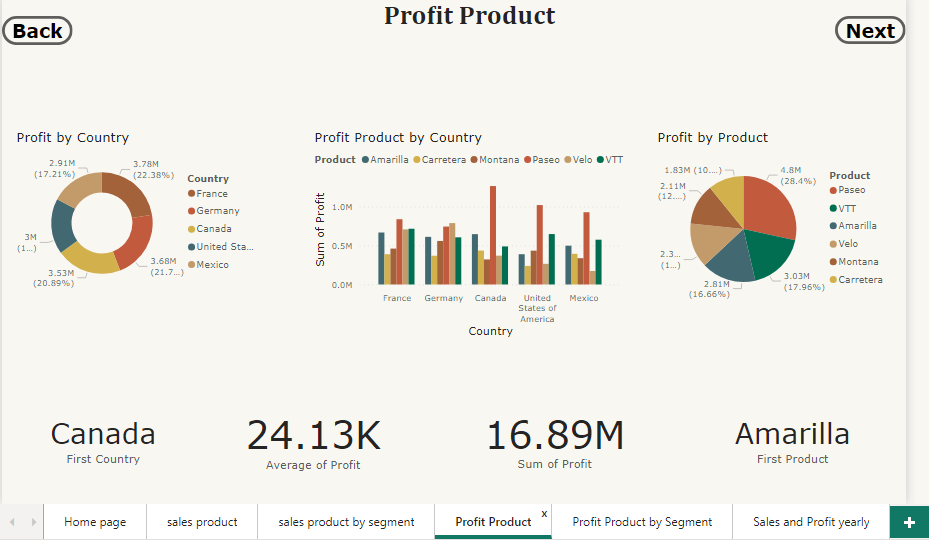

What the dashboard file says about the page in this screenshot:
{"tool":"powerbi","page":{"name":"Page 4","canvas":[1280,720],"ordinal":3},"visuals":[{"type":"textbox","box":[487.1,0,349.9,82.3],"z":0},{"type":"clusteredColumnChart","title":" Profit Product by Country ","fields":{"Y":["Sum(financials.Profit)"],"Category":["financials.Country"],"Series":["financials.Product"]},"box":[426.8,297.8,444.6,300.5],"z":1000},{"type":"card","fields":{"Values":["Sum(financials.Profit)"]},"box":[520.1,113.9,286.8,183.9],"z":2000},{"type":"card","fields":{"Values":["Min(financials.Country)"]},"box":[171.5,113.9,286.8,183.9],"z":3000},{"type":"card","fields":{"Values":["Min(financials.Product)"]},"box":[902.9,113.9,286.8,183.9],"z":4000},{"type":"pieChart","title":" Profit by Product","fields":{"Y":["Sum(financials.Profit)"],"Category":["financials.Product"]},"box":[923.5,306,338.9,260.7],"z":5000},{"type":"donutChart","title":" Profit by Country","fields":{"Y":["Sum(financials.Profit)"],"Category":["financials.Country"]},"box":[0,306,356.8,242.9],"z":6000},{"type":"actionButton","box":[1180.1,28.8,100.2,39.8],"z":7000},{"type":"actionButton","box":[0,28.8,100.2,41.2],"z":8000}]}

Visuals, with their boxes on the page's 1280x720 design canvas (x1, y1, x2, y2). These are canvas units, not pixel positions in the 929x540 screenshot, which may show the page scaled, cropped or inside an application window:
textbox: detection(487, 0, 837, 82)
" Profit Product by Country " clusteredColumnChart: detection(427, 298, 871, 598)
card - Sum(financials.Profit): detection(520, 114, 807, 298)
card - Min(financials.Country): detection(172, 114, 458, 298)
card - Min(financials.Product): detection(903, 114, 1190, 298)
" Profit by Product" pieChart: detection(924, 306, 1262, 567)
" Profit by Country" donutChart: detection(0, 306, 357, 549)
actionButton: detection(1180, 29, 1280, 69)
actionButton: detection(0, 29, 100, 70)
